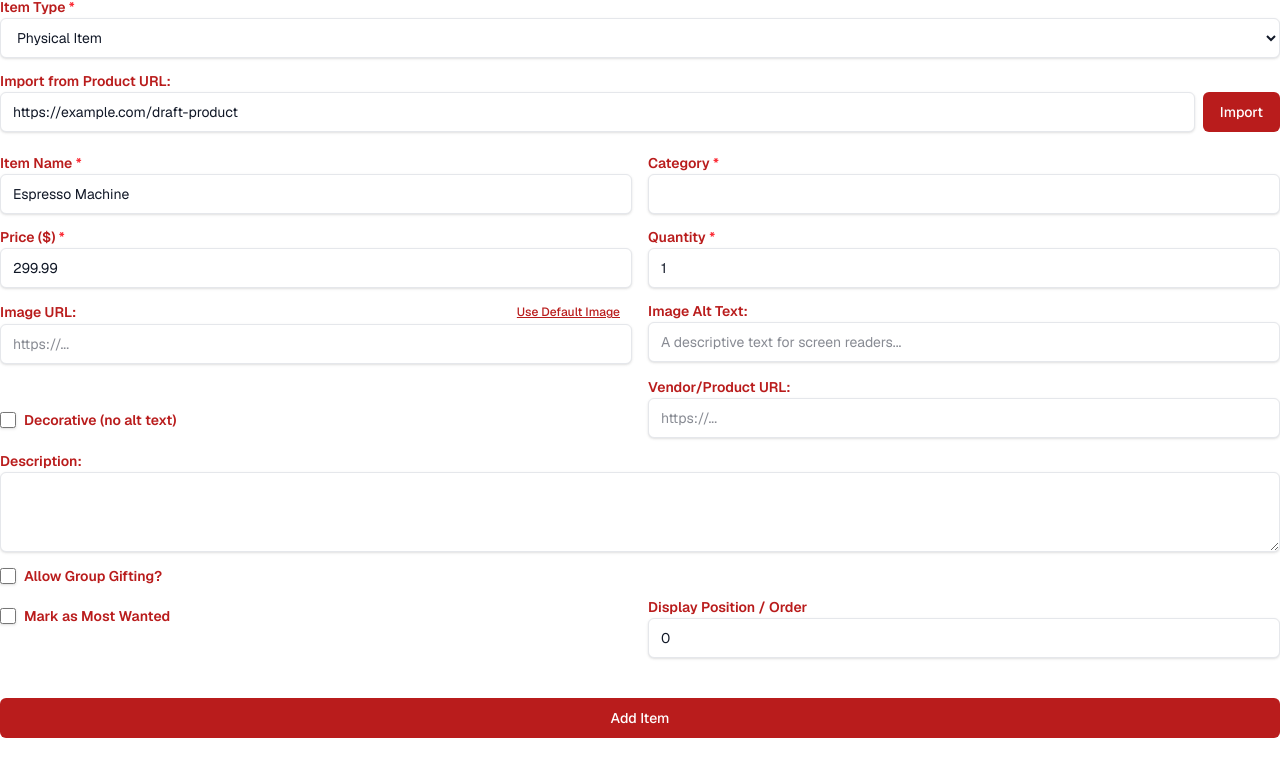
Scenario: RegistryItemForm › populates vendorUrl with scrapeUrl when scraping fails and vendorUrl is empty
The image size is (1280, 777).
Expected: the field labelled "Vendor/Product URL:" is empty, [648, 398, 1279, 438]
Replace the text in the field labelled "Import from Product URL:" with "https://www.target.com/p/sample-item" at [597, 112], box [0, 92, 1195, 132]
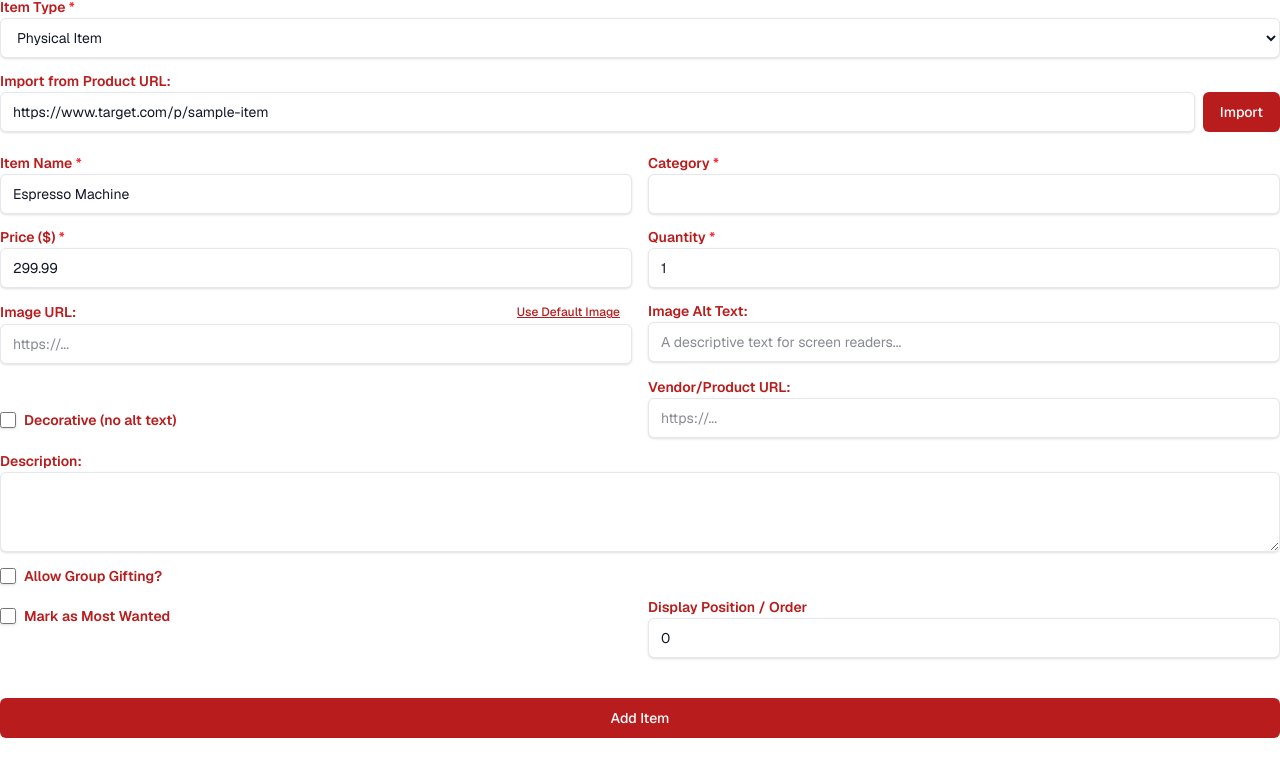
Click the button "Import" at [1241, 112], box [1203, 92, 1279, 132]
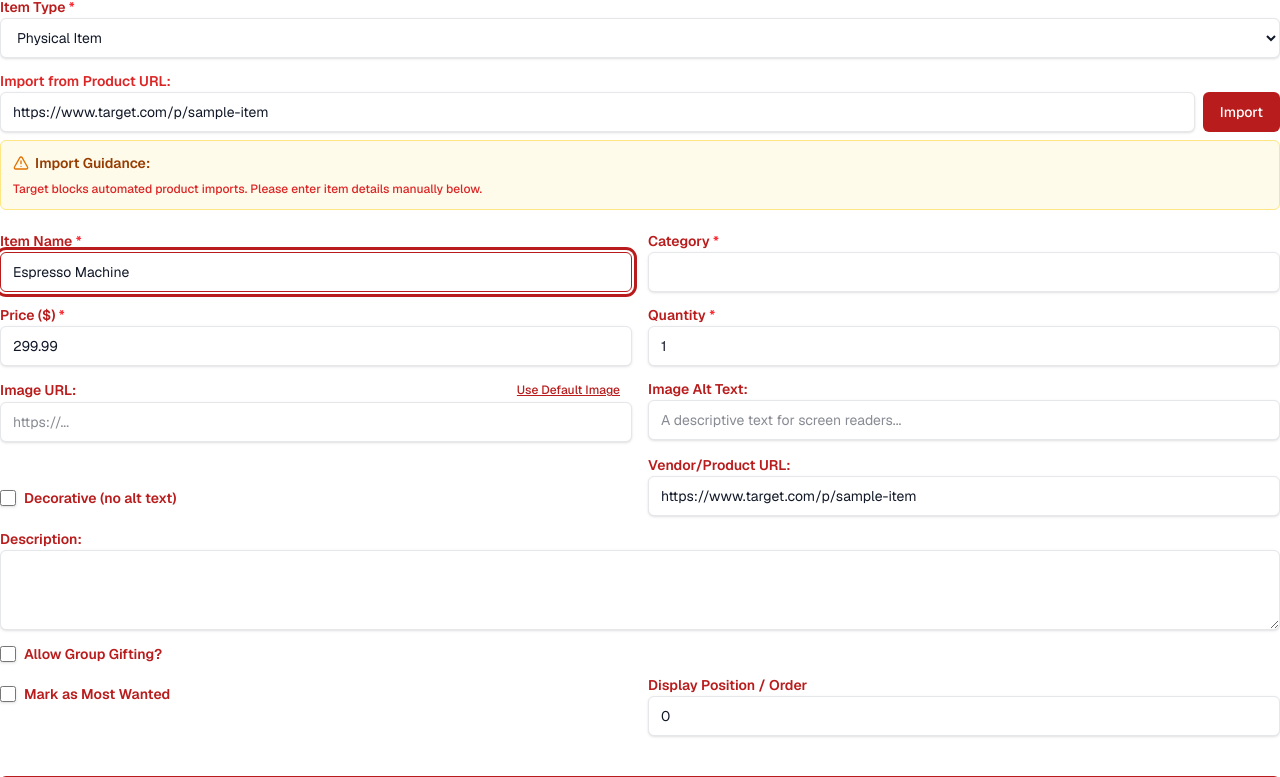
Expected: the field labelled "Vendor/Product URL:" holds "https://www.target.com/p/sample-item", [648, 476, 1279, 516]
Expected: the text "Target blocks automated product imports. Please enter item details manually below." is shown, [13, 181, 482, 197]
